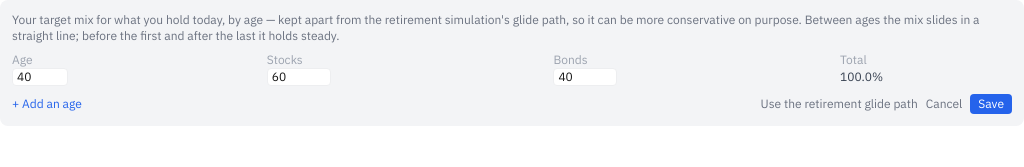
Test: CurrentGlidePathEditor › won't save a mix that doesn't add to 100%
Replace the text in the number field named "Bonds % at age 40" with "30": (585, 77) 553,68 -> 617,86
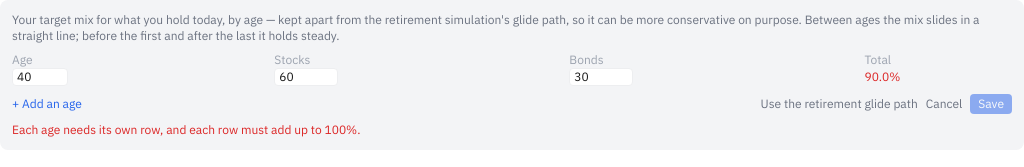
Expected: the button "Save" is disabled, 970,94 -> 1012,114
